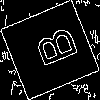B: (25, 25, 80, 73)
